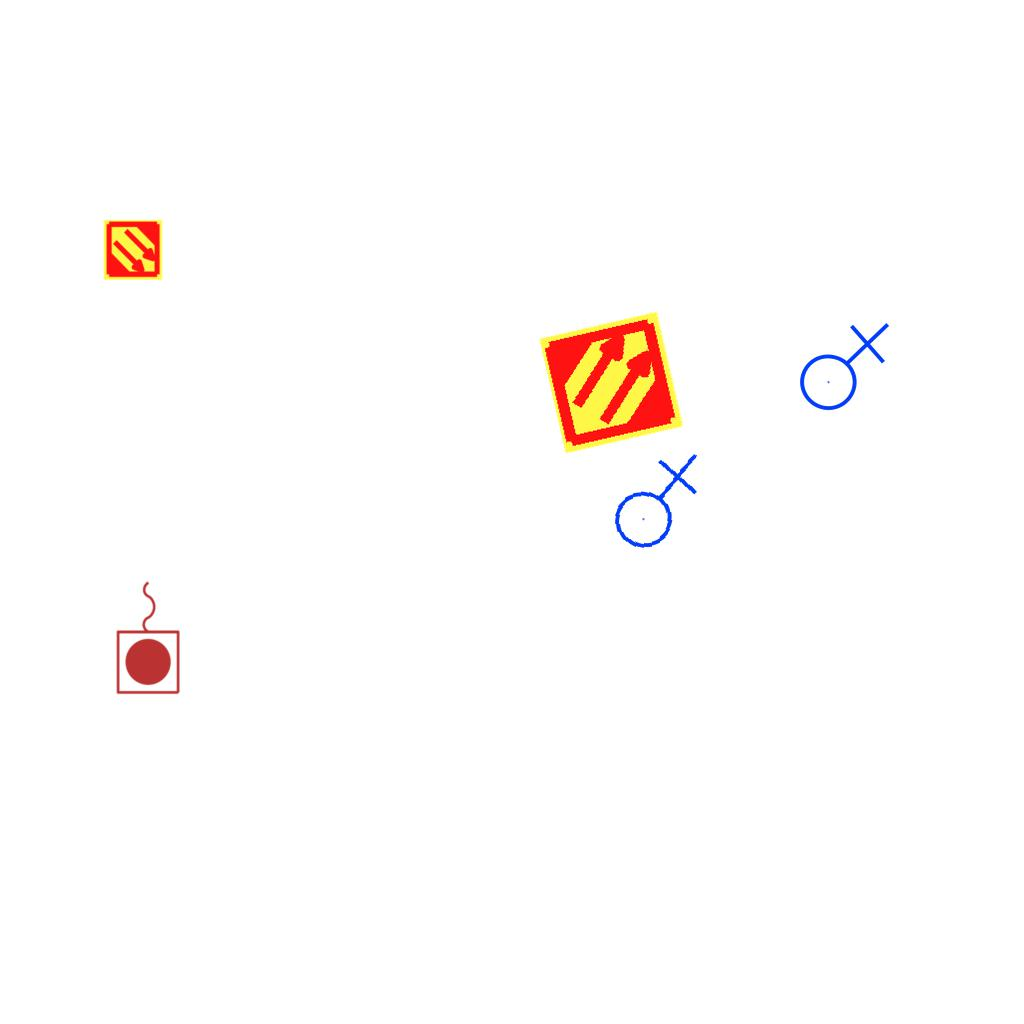ASR_Ansaugrauchmelder: (536, 307, 687, 458), (102, 219, 164, 281)
Elektroanschluss_allgemein_230V_Geraeteanschlussdose_230V: (598, 448, 709, 554), (791, 318, 890, 412)
Zugtaster: (113, 576, 185, 698)
